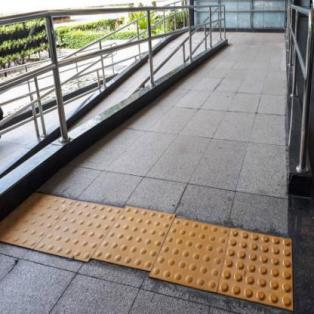Podoctatil: (2, 189, 293, 309)
